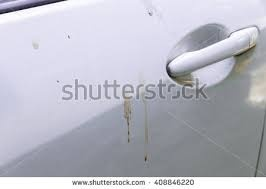Scratch: (161, 106, 266, 176)
